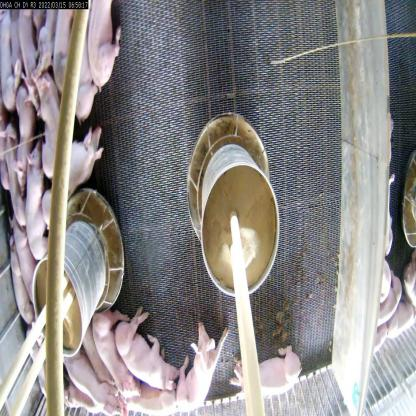Pig: (120, 311, 174, 408), (51, 129, 112, 214), (234, 339, 303, 414), (31, 64, 71, 179), (60, 347, 121, 415), (175, 321, 219, 415), (22, 146, 55, 263), (68, 4, 102, 111), (95, 301, 134, 389), (6, 218, 43, 308), (83, 4, 119, 90), (2, 241, 36, 327), (7, 85, 36, 181)
